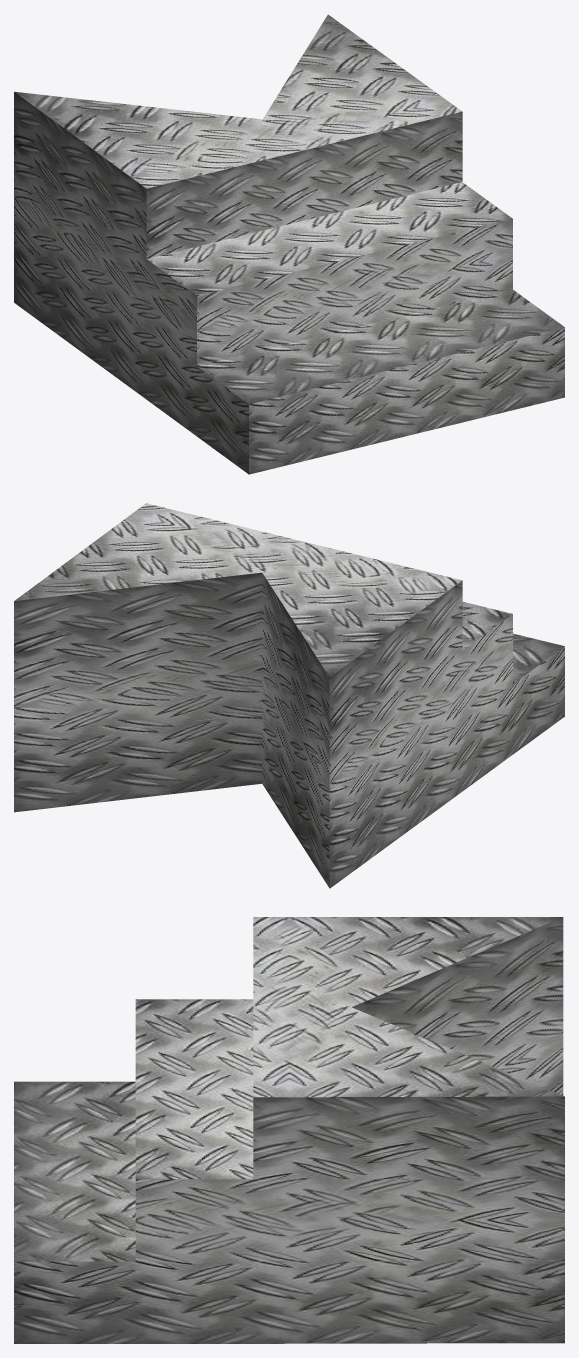
File: steps.glb
3 views of the same model, one above another, from view 1: azimuth 30°, elevation 25°; view 2: azimuth 150°, elevation 25°; view 3: azimuth 270°, elevation 25° (orthographic). The views are drawn at different scales.
Parts seen in each view (by area): view 1: steps; view 2: steps; view 3: steps.
Boxes of the visible parts, x1=… form: steps: x1=14, y1=14, x2=564, y2=474; steps: x1=14, y1=503, x2=564, y2=888; steps: x1=14, y1=917, x2=564, y2=1343.
Size of the model in its own units: 63.2 by 40.31 by 81.65.
3 materials, 3 textured.
